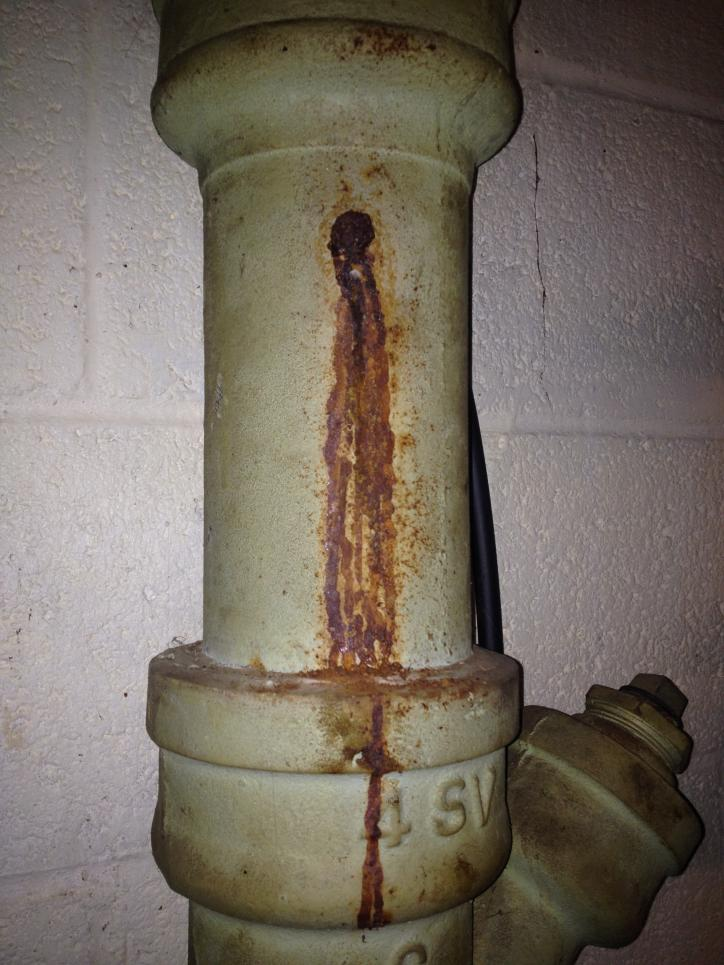Moderate: (294, 208, 424, 930)
